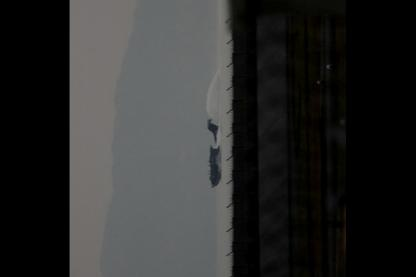Tu95: (206, 116, 221, 186)
